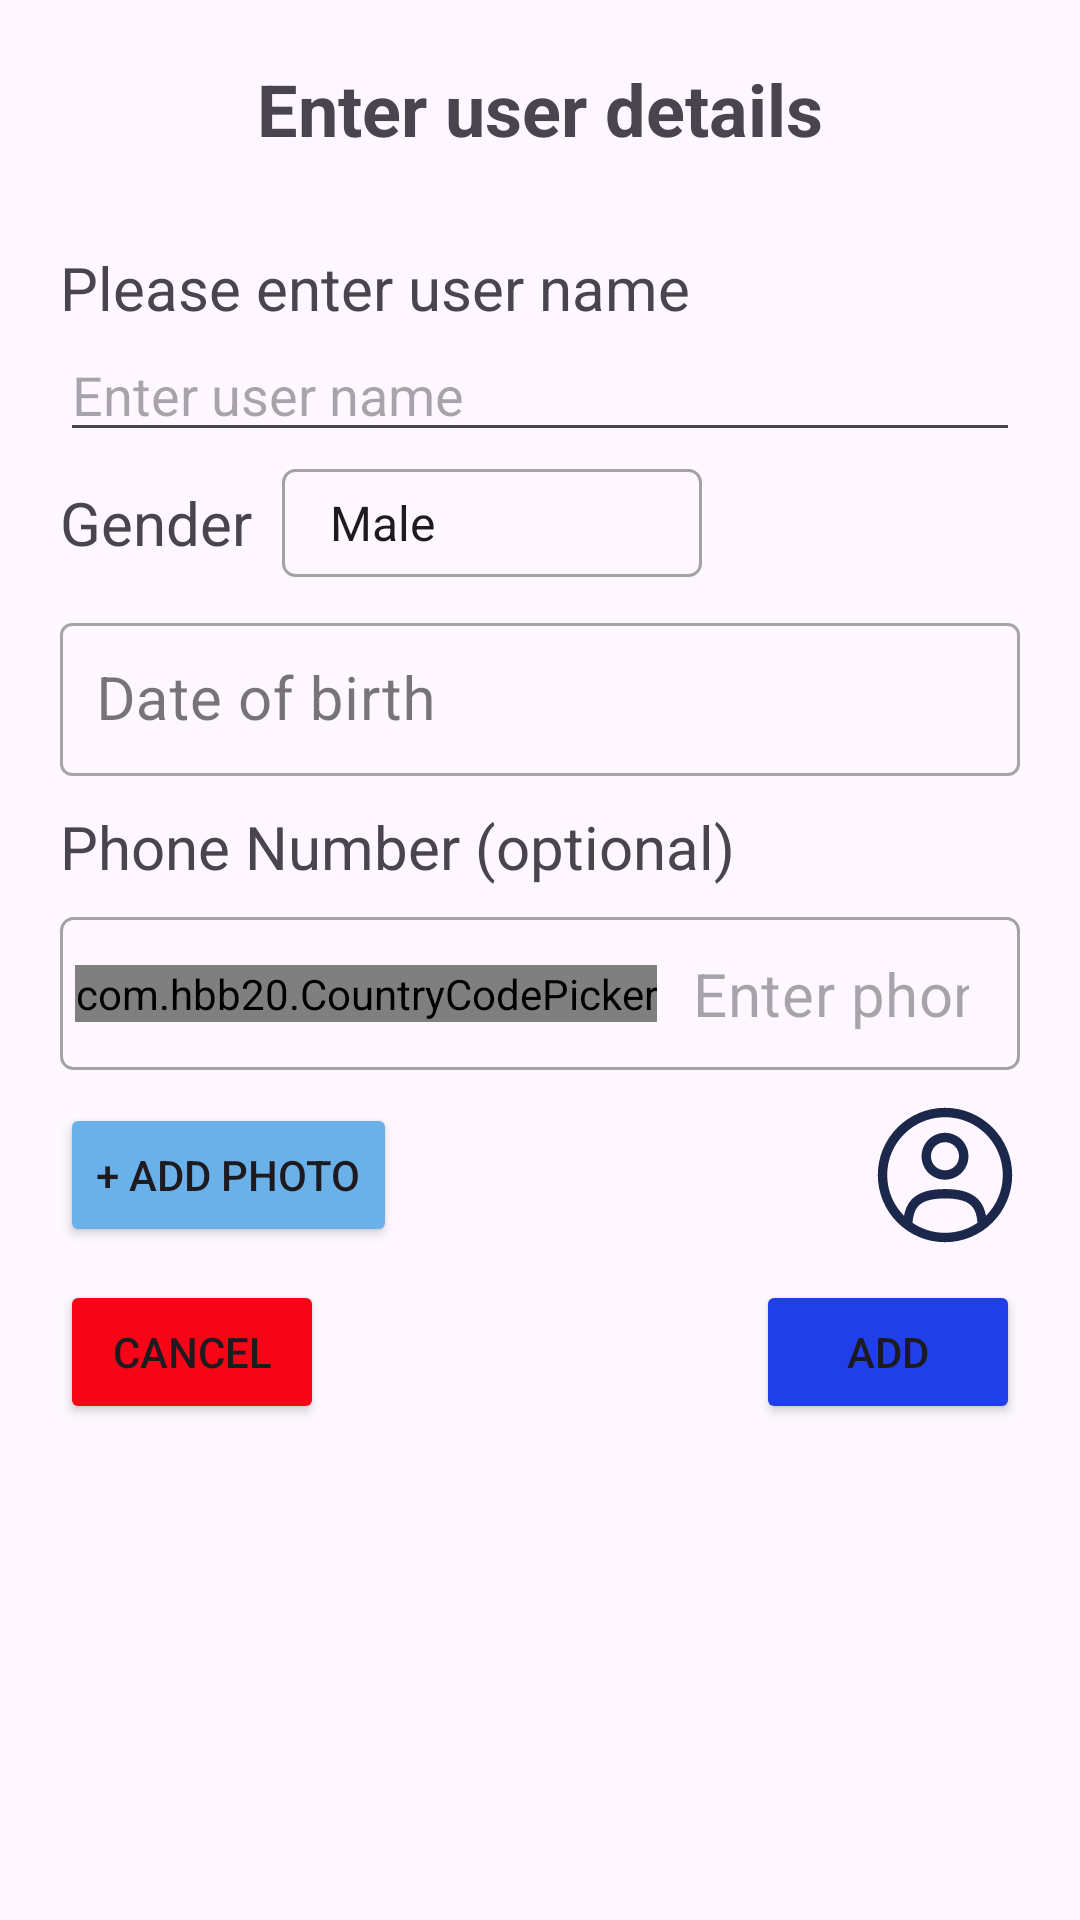

Icons on this 1080 x 1920 Android screen, each with its box as (x1, y1, x2, y2):
empty user circle: (877, 1107, 1013, 1243)
